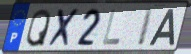2: (75, 7, 103, 49)
A: (147, 8, 175, 47)
I: (135, 7, 155, 48)
L: (101, 9, 122, 47)
Q: (24, 8, 52, 49)
X: (46, 7, 83, 48)
